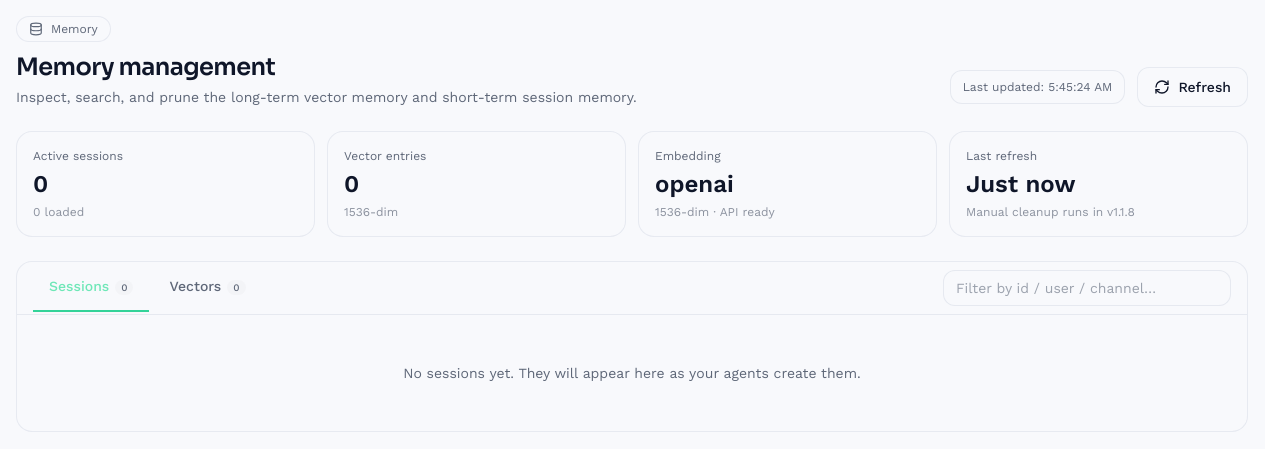
Scenario: Memory view › 2. 点击 Vectors tab 切换并显示搜索 input
This screenshot has width=1265, height=449.
What coordinates should you click on to do the following:
click the tab "Vectors0"
I would click on:
 (208, 288)
Its box is [154,264,262,312].
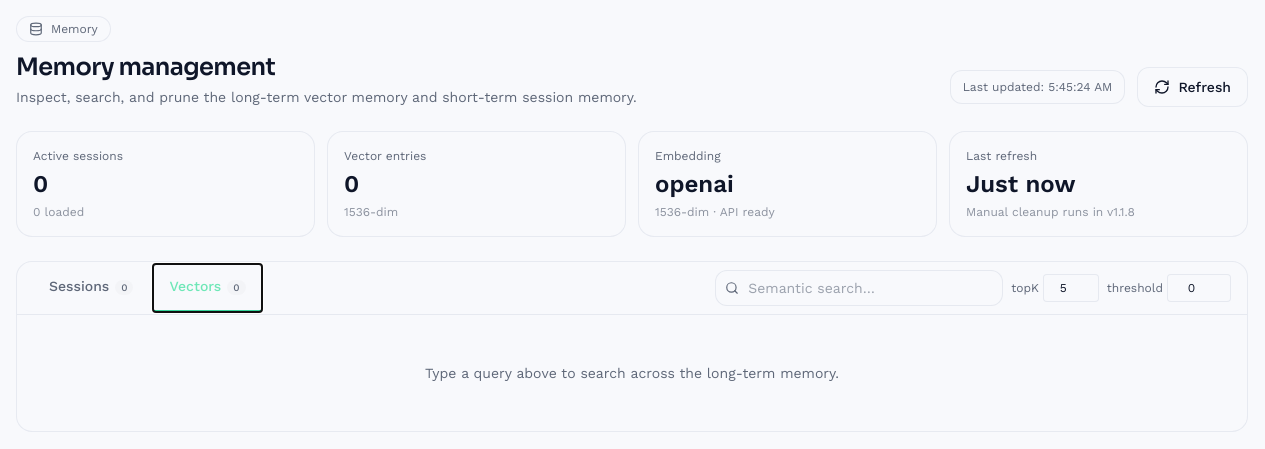
Check: the field with placeholder "Semantic search…" is shown, box [715,270,1003,306]
